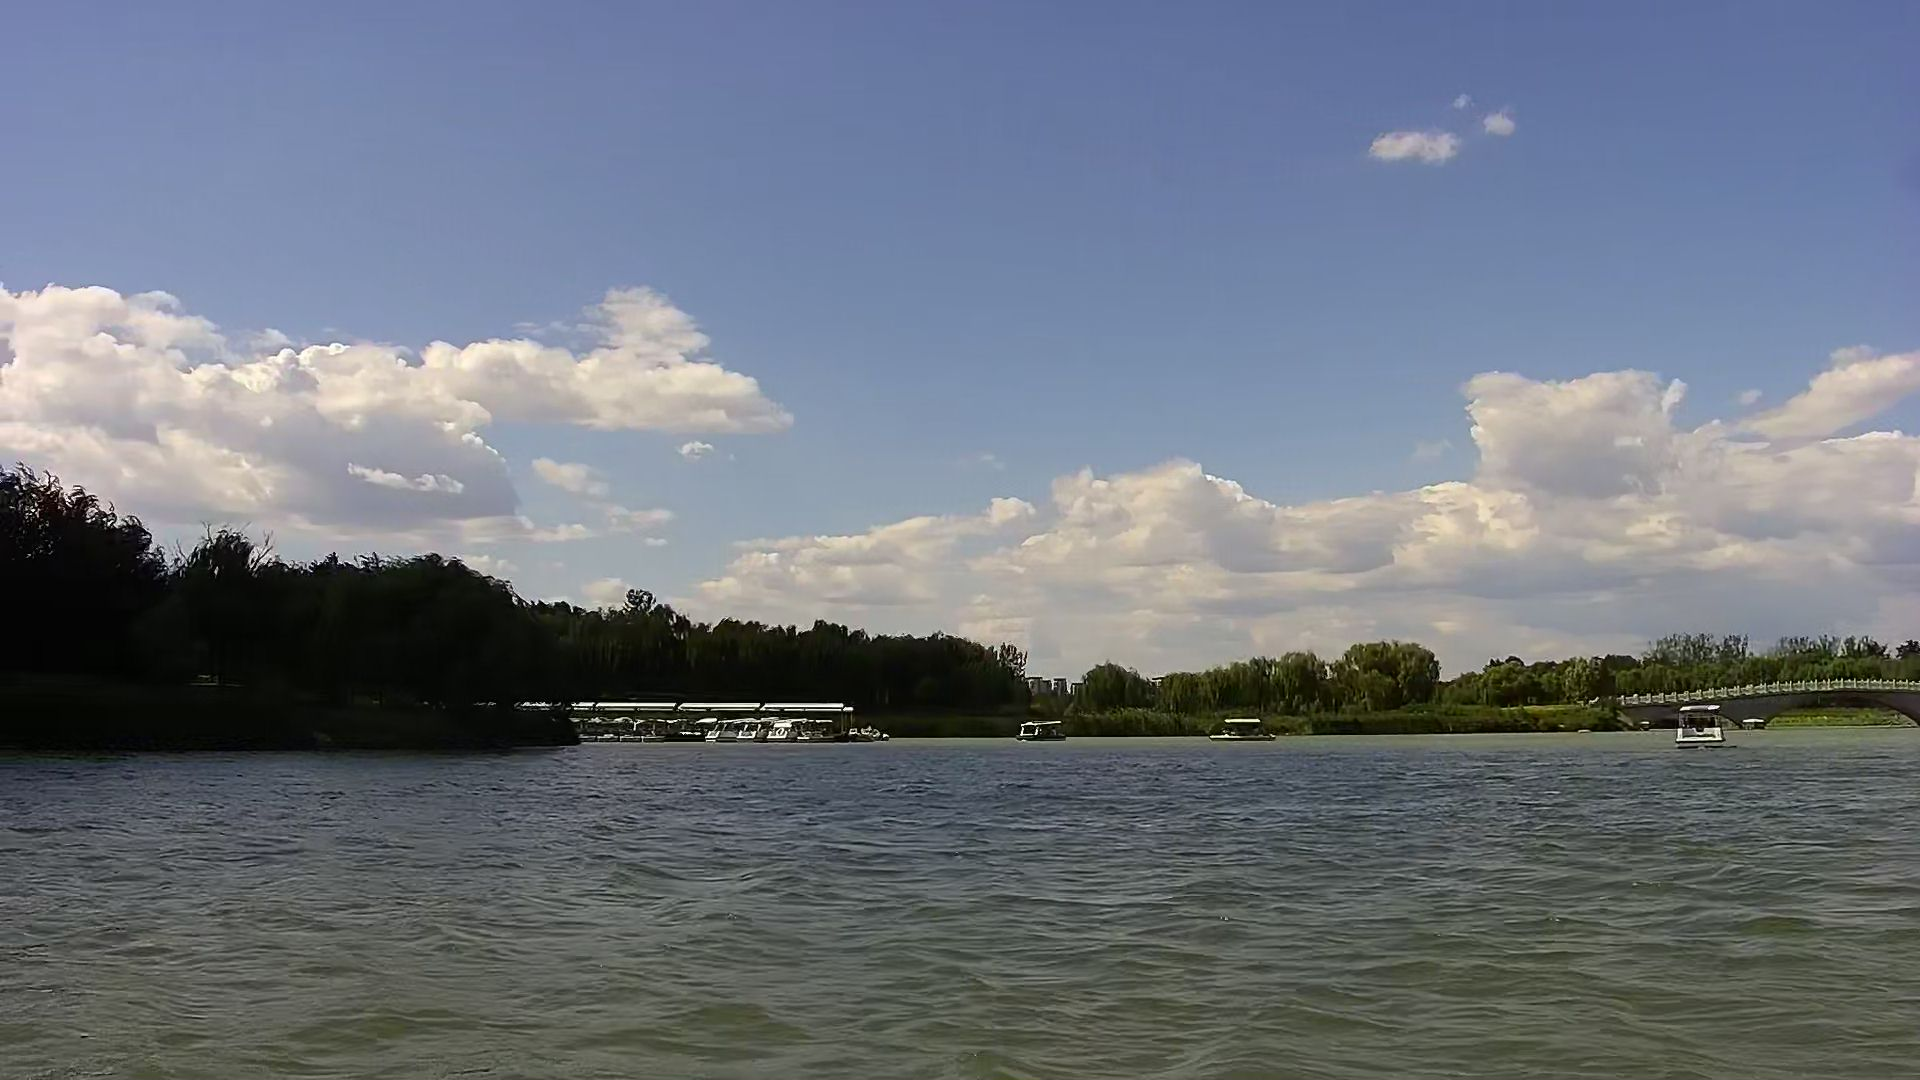boat: (767, 708, 839, 754), (1201, 709, 1283, 744), (1673, 702, 1727, 750), (1009, 712, 1071, 746), (731, 713, 777, 742), (705, 716, 741, 744)
bridge: (1615, 678, 1920, 721)
